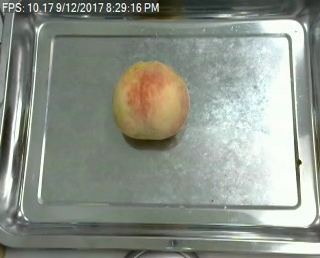Peach: (111, 60, 190, 140)
